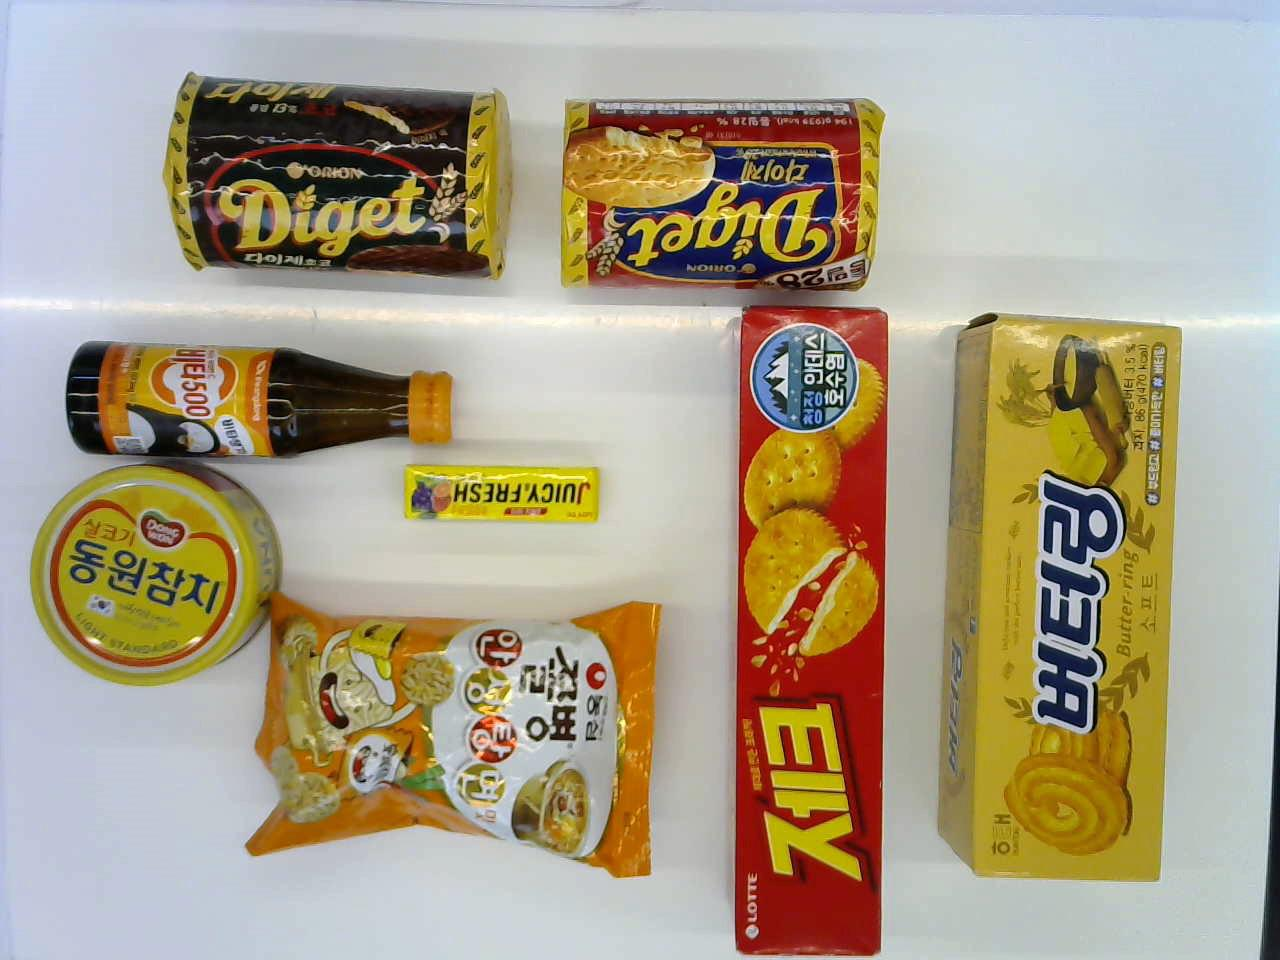buttering: (933, 310, 1183, 899)
diget_choco: (169, 71, 517, 290)
diget_ori: (555, 89, 897, 296)
jjolbyung_noodle: (249, 593, 658, 869)
juicyfresh: (396, 451, 600, 526)
tuna: (29, 460, 273, 701)
vita500: (66, 332, 449, 461)
zec: (729, 289, 889, 954)
